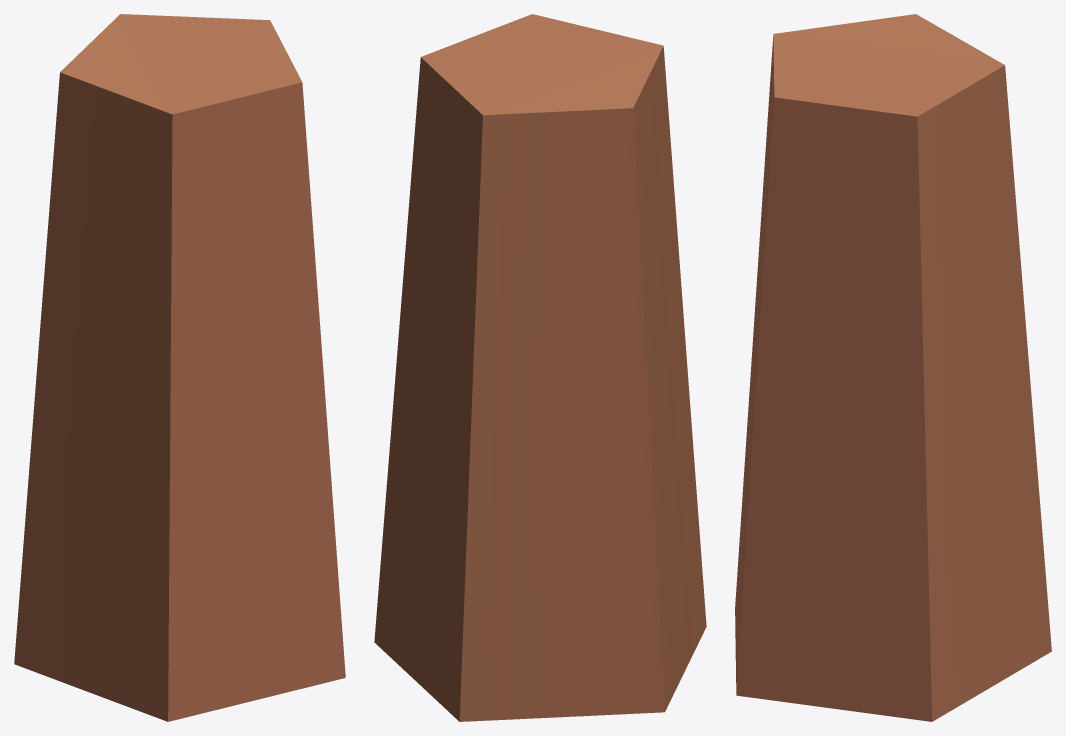
Rendered from kay-toco.gltf.
The picture shows the model from 3 angles, left to right: view 1: azimuth 30°, elevation 25°; view 2: azimuth 150°, elevation 25°; view 3: azimuth 270°, elevation 25°; orthographic projection.
Parts seen in each view (by area): view 1: tree_single_A_cut; view 2: tree_single_A_cut; view 3: tree_single_A_cut.
Part boxes in pixels (x1,y1,x2,y2): tree_single_A_cut: (14, 14, 345, 721); tree_single_A_cut: (374, 14, 706, 721); tree_single_A_cut: (735, 14, 1051, 721).
Size of the model in its own units: 0.8485 by 1.65 by 0.8085.
Materials: 1 (1 with a texture image).
